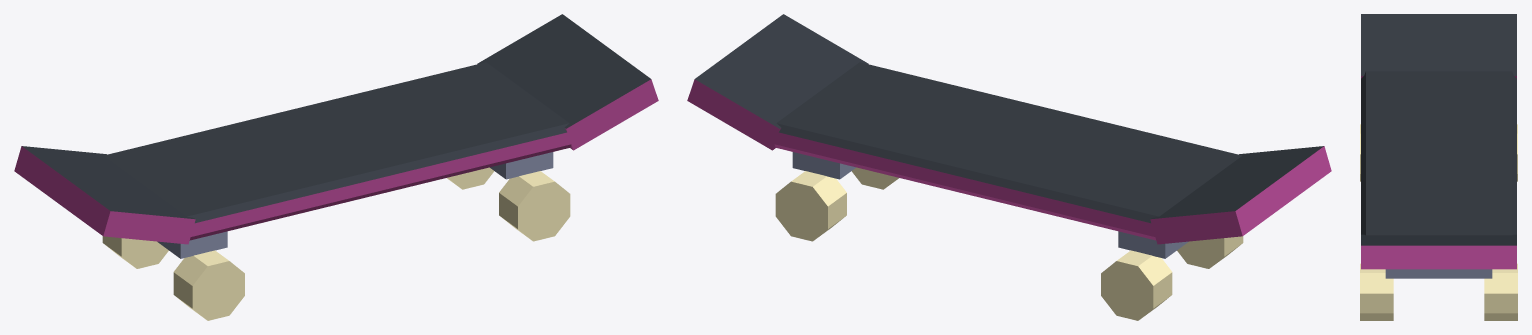
The model's file is skater_board.glb.
The picture shows the model from 3 angles, left to right: view 1: azimuth 30°, elevation 25°; view 2: azimuth 150°, elevation 25°; view 3: azimuth 270°, elevation 25°; orthographic projection. The views are drawn at different scales.
Visible parts, largest first — view 1: Deck; view 2: Deck; view 3: Deck.
Part boxes in pixels (<box>): Deck: <box>14,14,658,320</box>; Deck: <box>687,14,1331,320</box>; Deck: <box>1360,14,1517,320</box>.
Size of the model in its own units: 1.18 by 0.2699 by 0.33.
